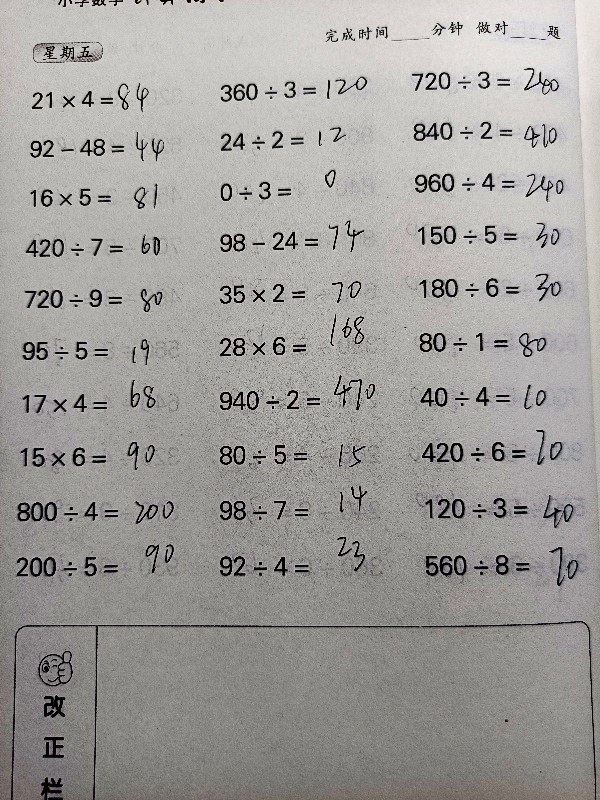equation: (413, 422, 593, 473), (214, 314, 391, 363), (21, 122, 201, 167), (24, 73, 204, 118), (210, 165, 377, 212), (213, 374, 391, 418), (15, 378, 194, 421), (411, 325, 591, 365), (404, 113, 584, 153), (416, 547, 596, 584), (7, 548, 187, 584), (211, 548, 391, 584), (417, 490, 597, 526), (211, 72, 391, 108), (9, 494, 189, 529), (211, 493, 391, 528), (13, 440, 193, 475), (210, 437, 390, 472), (411, 379, 591, 414), (411, 271, 591, 306), (409, 217, 589, 252), (405, 164, 585, 199), (15, 334, 195, 368), (17, 282, 197, 316), (211, 276, 391, 310), (18, 231, 198, 265), (211, 224, 391, 258), (22, 181, 202, 214), (212, 124, 392, 157), (403, 64, 583, 97)
